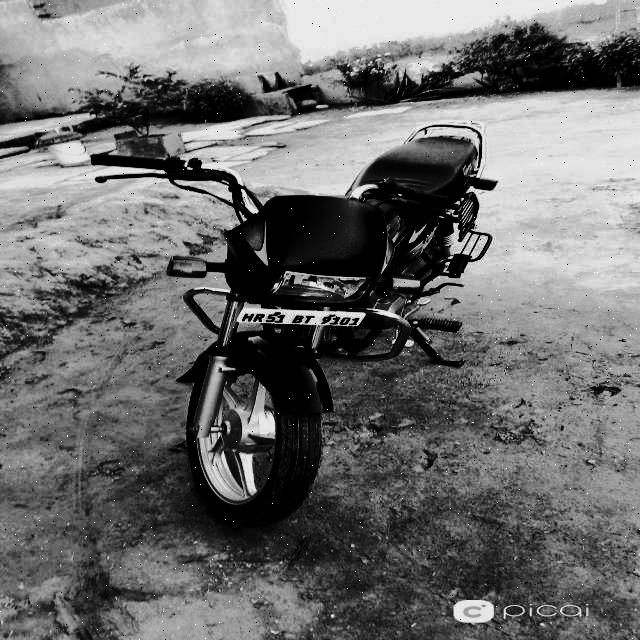Bike: (82, 126, 518, 530)
